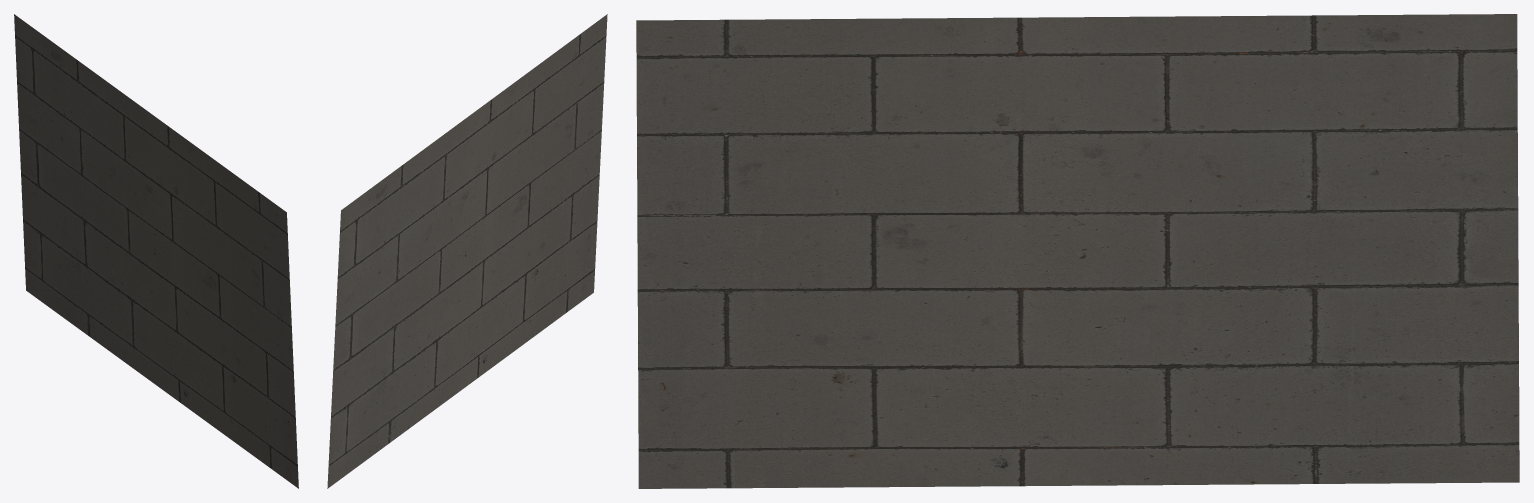
The model's file is about_me.glb.
The picture shows the model from 3 angles, left to right: view 1: azimuth 30°, elevation 25°; view 2: azimuth 150°, elevation 25°; view 3: azimuth 270°, elevation 25°; orthographic projection. The views are drawn at different scales.
Visible parts, largest first — view 1: Plane; view 2: Plane; view 3: Plane.
Boxes of the visible parts, left/top/right/bottom form: Plane: left=14, top=14, right=298, bottom=488; Plane: left=327, top=14, right=607, bottom=488; Plane: left=636, top=14, right=1519, bottom=488.
Bounding box in the file's own units: 0.4324 × 7.15 × 12.39.
Materials: 1 (1 with a texture image).
